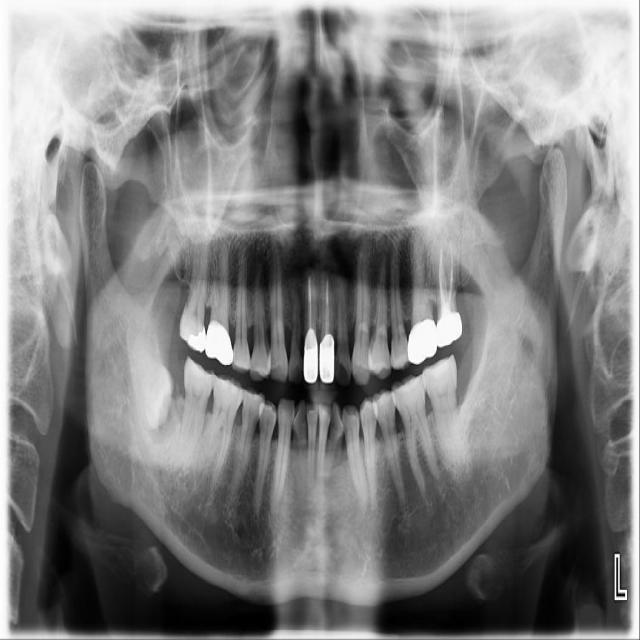Crown: (407, 318, 436, 364), (206, 320, 232, 365), (436, 312, 462, 347), (303, 329, 318, 382), (320, 333, 334, 383)
Filling: (183, 326, 207, 355)
Root Canal Treatment: (325, 279, 329, 329), (309, 277, 312, 329), (449, 256, 451, 293), (441, 253, 441, 293)
impacted tooth: (126, 305, 172, 432)
